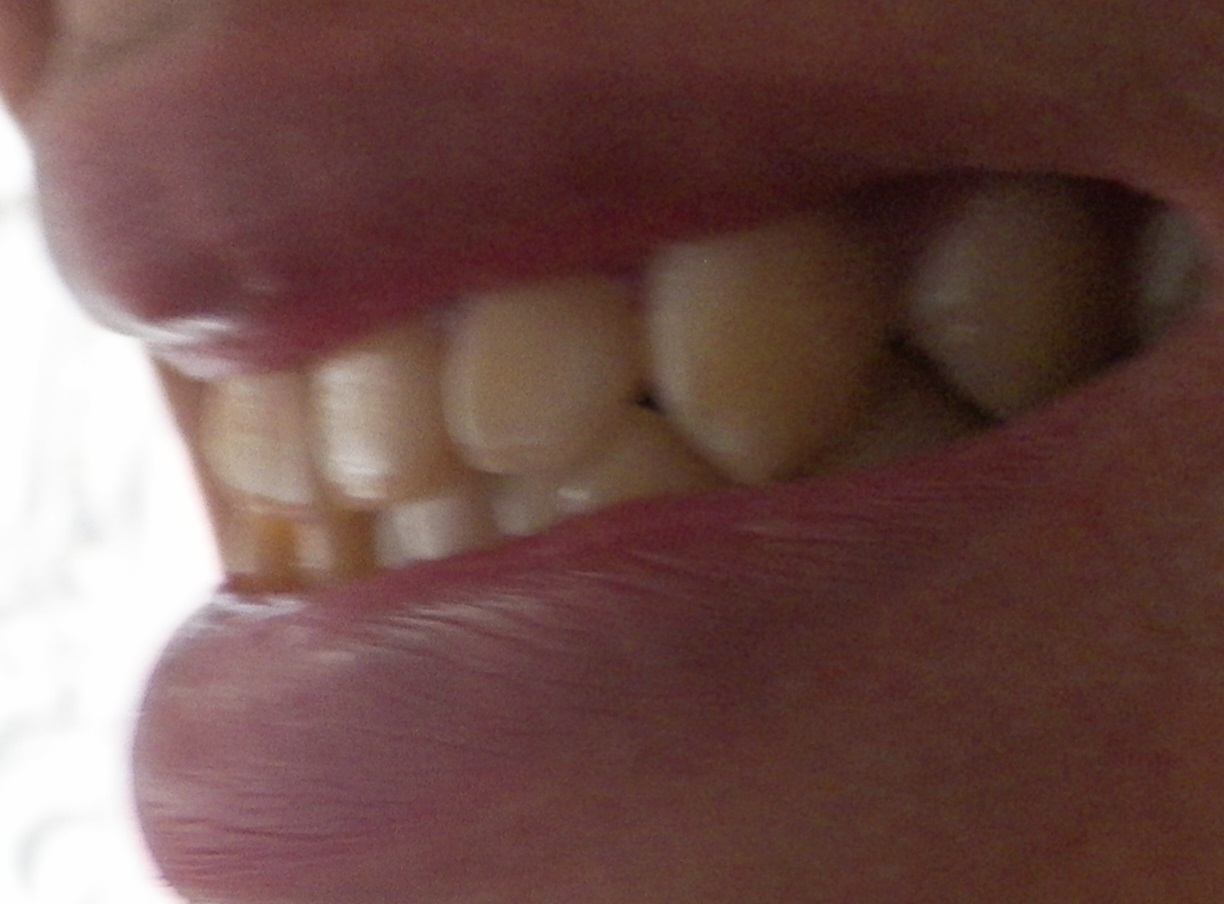boca: (196, 180, 1156, 575)
